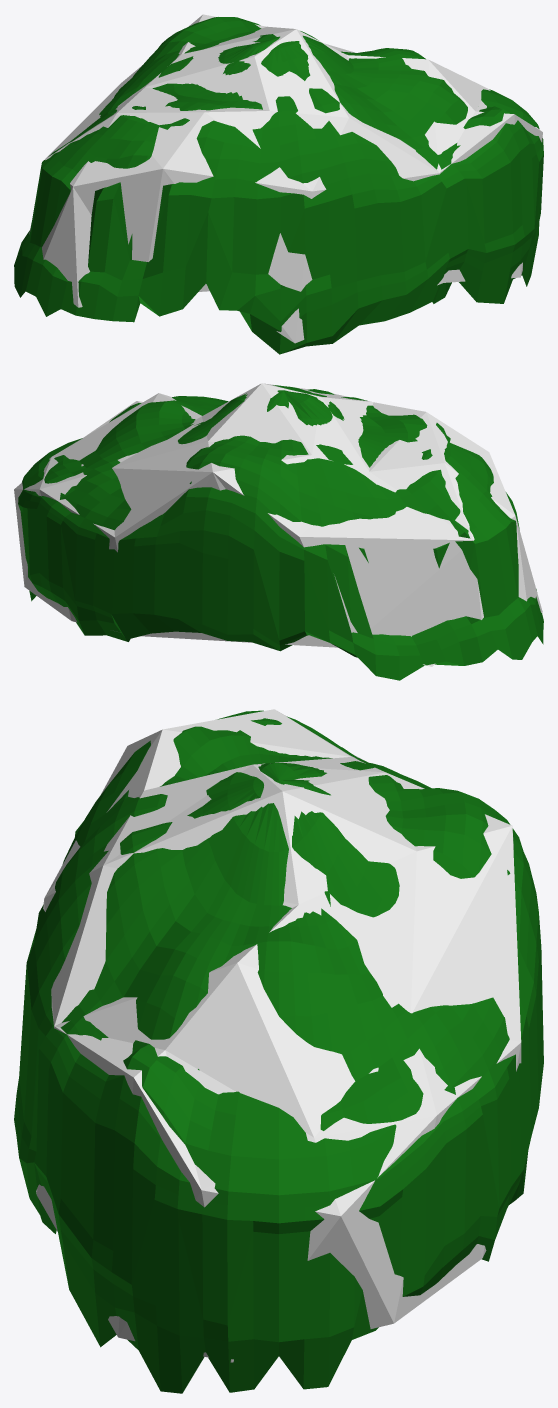
The model's file is babacson2.fbx.
The picture shows the model from 3 angles, top to bottom: view 1: azimuth 30°, elevation 25°; view 2: azimuth 150°, elevation 25°; view 3: azimuth 270°, elevation 25°; orthographic projection. The views are drawn at different scales.
Visible parts, largest first — view 1: Sphere, Sphere.005; view 2: Sphere, Sphere.005; view 3: Sphere, Sphere.005.
Boxes of the visible parts, <box> form: Sphere: <box>14,17,543,354</box>; Sphere.005: <box>29,14,542,343</box>; Sphere: <box>18,385,543,680</box>; Sphere.005: <box>14,383,542,666</box>; Sphere: <box>14,710,543,1393</box>; Sphere.005: <box>36,709,521,1362</box>.
Size of the model in its own units: 30.65 by 16.06 by 17.21.
